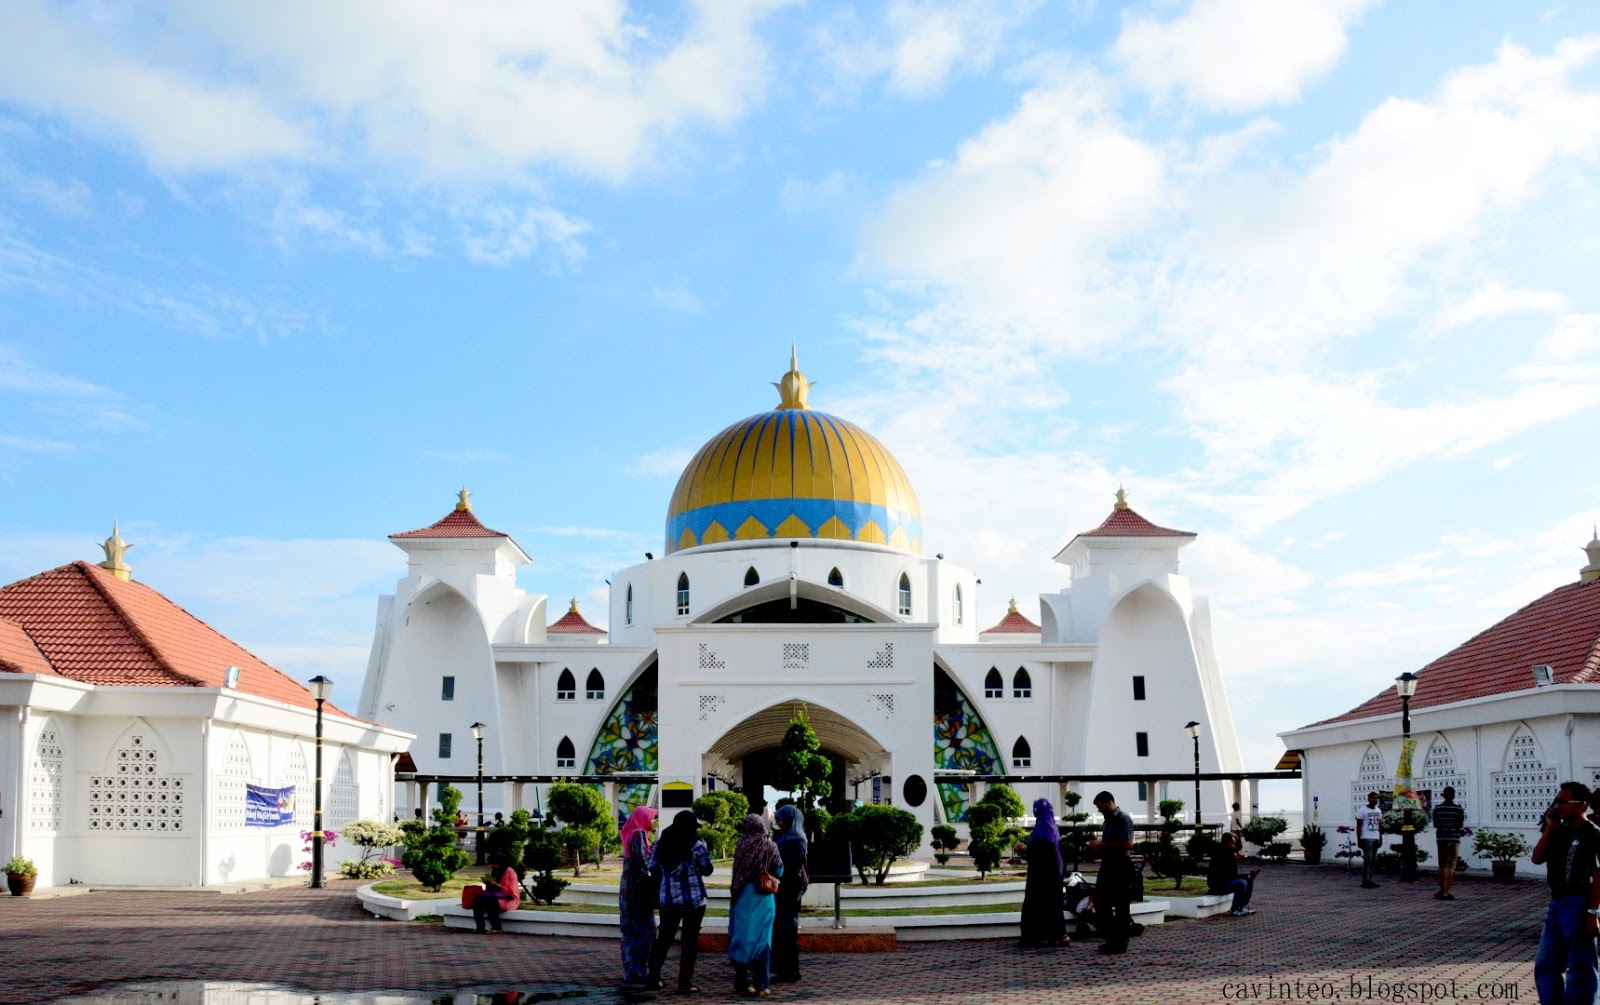Mosque: (387, 362, 1213, 817)
